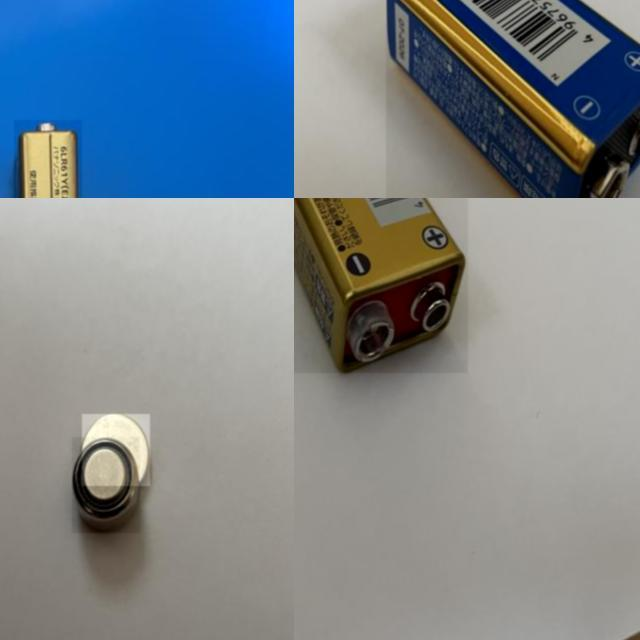9V: (386, 0, 640, 198), (294, 198, 468, 373), (14, 120, 82, 198)
